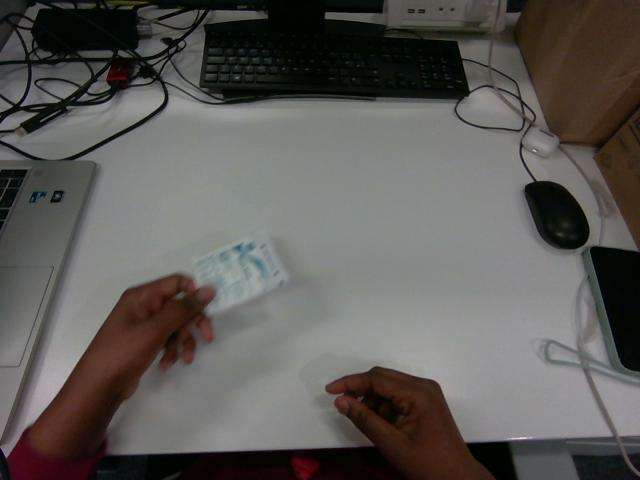gauze: (193, 234, 288, 314)
